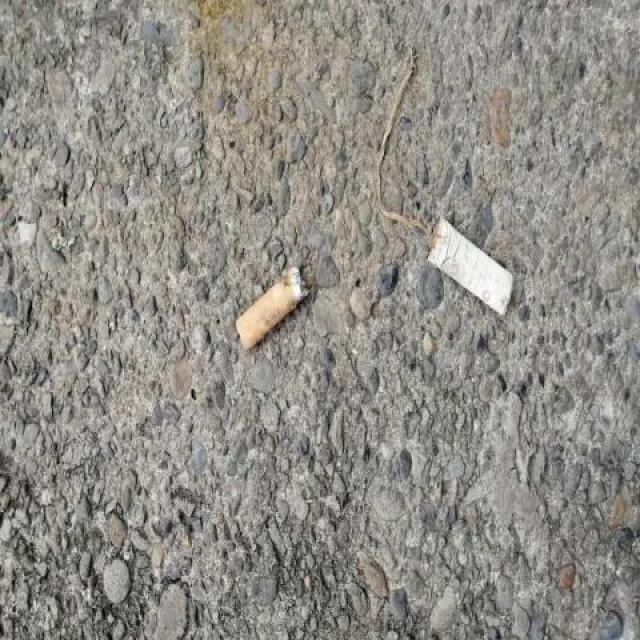non-organic waste: (420, 210, 520, 322), (232, 264, 312, 353)
